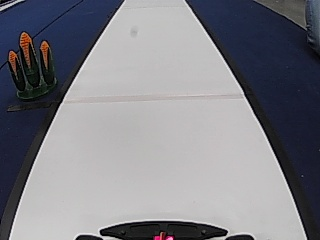corn: (5, 31, 57, 97)
